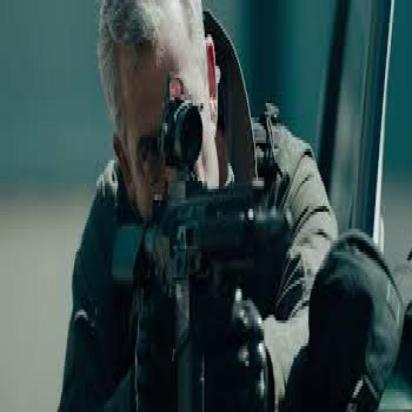Gun: (110, 177, 292, 412)
